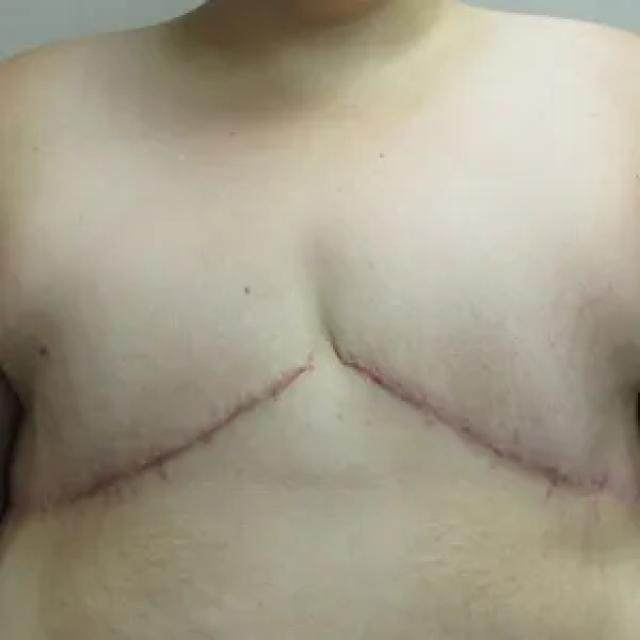Seno herido: (5, 272, 322, 528), (324, 272, 640, 528)
